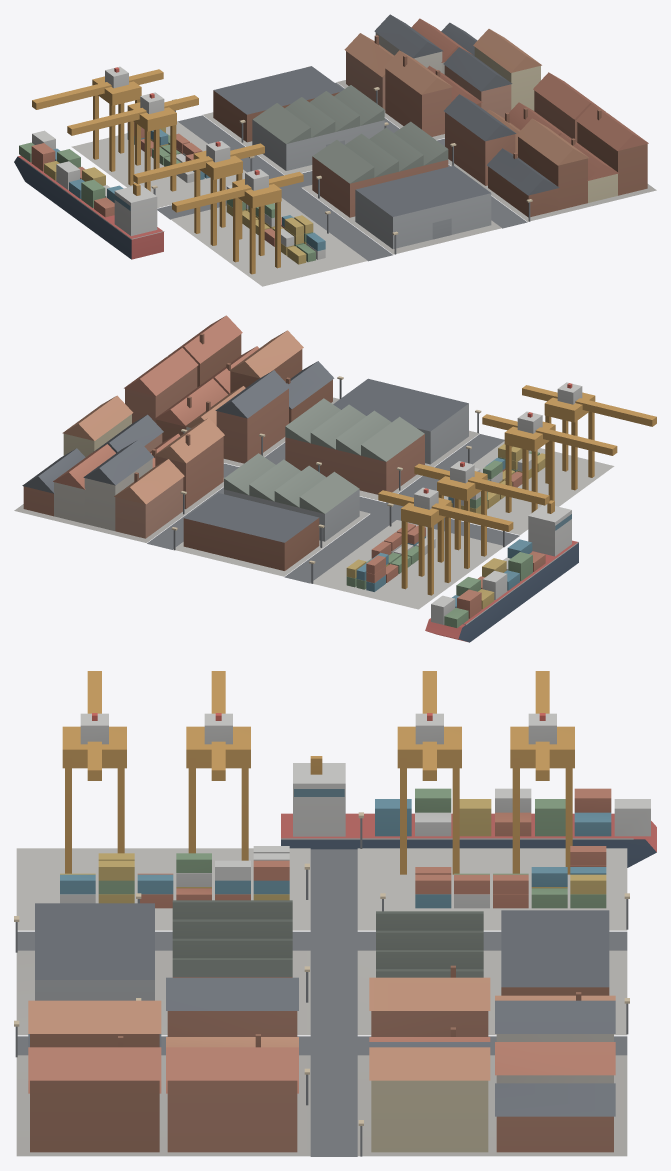
The model's file is district_old_harbor.glb.
3 views of the same model, one above another, from view 1: azimuth 30°, elevation 25°; view 2: azimuth 150°, elevation 25°; view 3: azimuth 270°, elevation 25° (orthographic). The views are drawn at different scales.
Parts seen in each view (by area): view 1: district_old_harbor; view 2: district_old_harbor; view 3: district_old_harbor.
Part boxes in pixels (left/top/right/bottom): district_old_harbor: left=14, top=14, right=656, bottom=286; district_old_harbor: left=14, top=315, right=656, bottom=642; district_old_harbor: left=14, top=671, right=656, bottom=1156.
Bounding box in the file's own units: 145 × 34.55 × 109.
